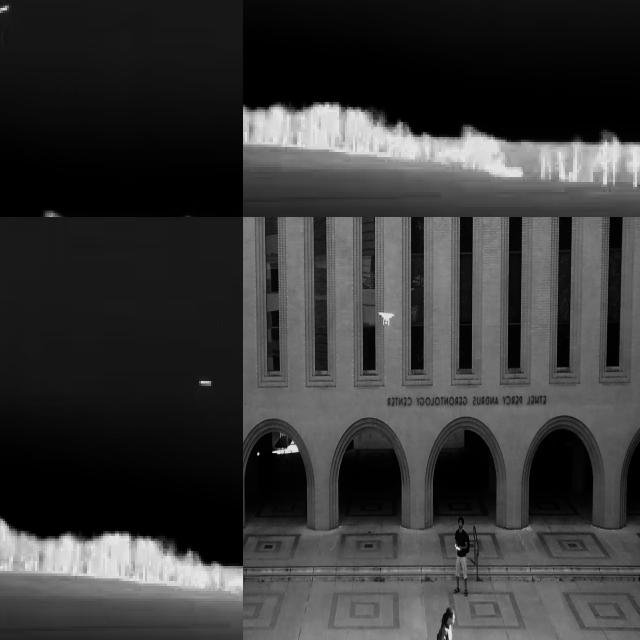1: (189, 372, 223, 402), (0, 0, 19, 28)
drone: (375, 308, 396, 330)
